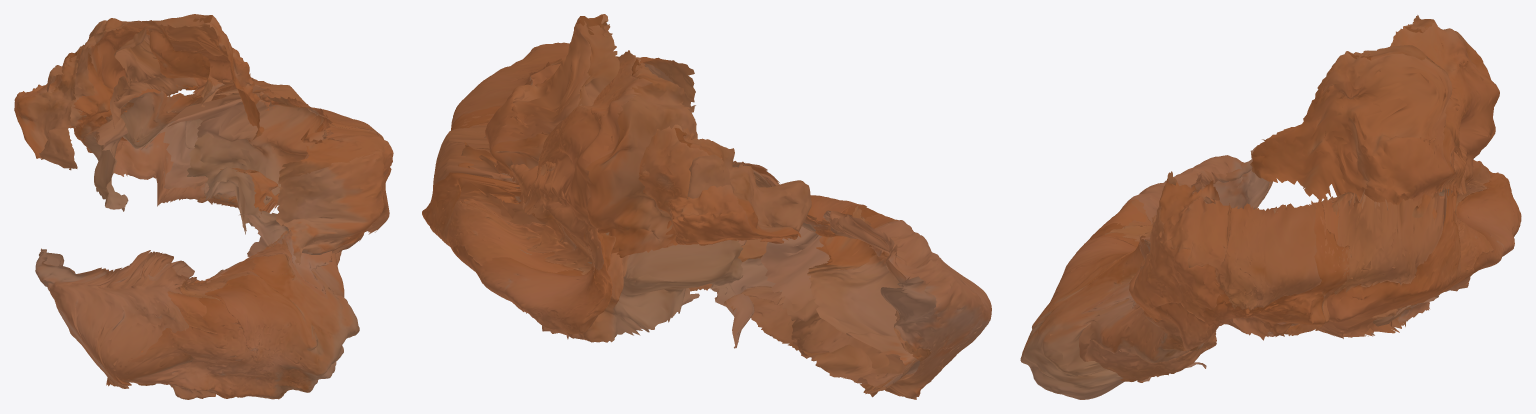
The model's file is halite_clay.glb.
The picture shows the model from 3 angles, left to right: view 1: azimuth 30°, elevation 25°; view 2: azimuth 150°, elevation 25°; view 3: azimuth 270°, elevation 25°; orthographic projection. The views are drawn at different scales.
Visible parts, largest first — view 1: Object_2.002, Object_2.005, Object_2.001; view 2: Object_2.001, Object_2.005, Object_2.002; view 3: Object_2.005, Object_2.001, Object_2.002.
Part boxes in pixels (left/top/right/bottom): Object_2.002: left=35, top=211, right=359, bottom=399; Object_2.005: left=74, top=73, right=393, bottom=264; Object_2.001: left=14, top=14, right=274, bottom=170; Object_2.001: left=485, top=14, right=811, bottom=257; Object_2.005: left=422, top=42, right=743, bottom=342; Object_2.002: left=688, top=161, right=991, bottom=399; Object_2.005: left=1129, top=160, right=1521, bottom=350; Object_2.001: left=1250, top=15, right=1499, bottom=205; Object_2.002: left=1020, top=139, right=1272, bottom=399.
Bounding box in the file's own units: 41.02 × 33.17 × 41.56.
4 materials, 4 textured.
